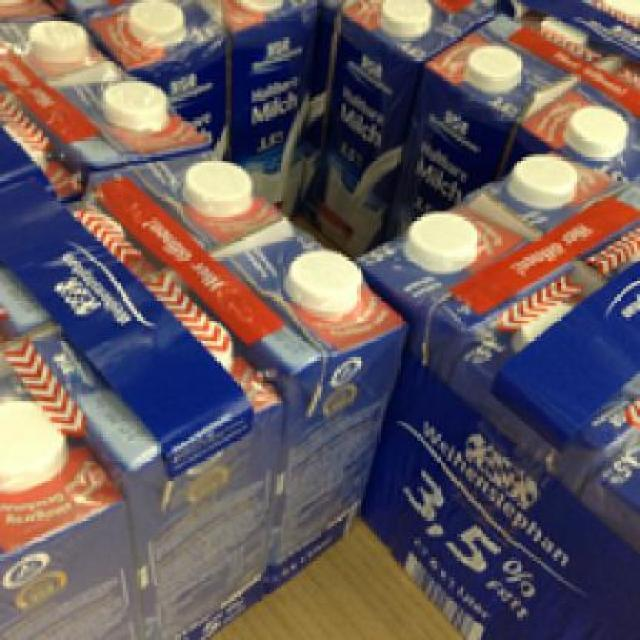Milk: (26, 272, 286, 638), (165, 232, 418, 592), (0, 373, 152, 632), (323, 0, 474, 237), (400, 14, 557, 240), (350, 200, 566, 340), (89, 0, 238, 183), (454, 146, 637, 283), (223, 0, 327, 215), (10, 83, 226, 177), (0, 10, 120, 104)
